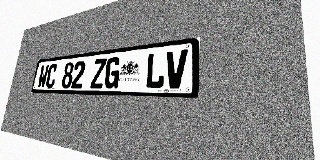2: (71, 60, 86, 88)
8: (61, 62, 75, 88)
C: (45, 63, 58, 88)
G: (103, 56, 121, 88)
L: (144, 52, 166, 88)
V: (164, 49, 188, 89)
W: (37, 64, 49, 88)
Z: (90, 58, 107, 88)
